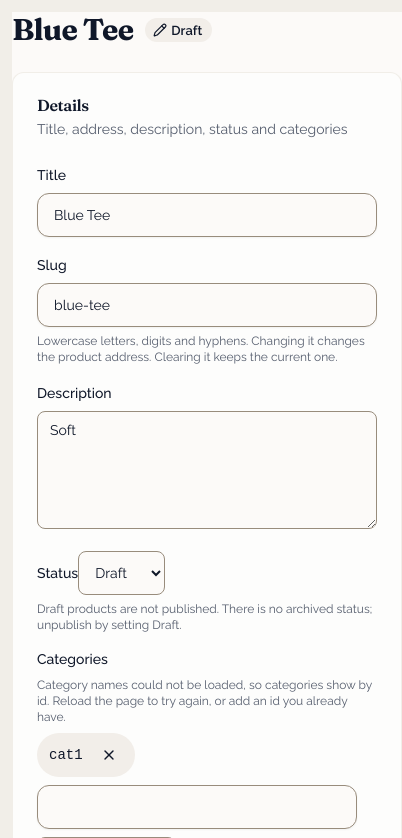
Scenario: ProductEditor save feedback › does not submit the product form when Enter is pressed in the category box
The image size is (402, 838).
Type "cat2" into the field named "Category id".
click(197, 807); type("cat2")  # box [37, 785, 357, 829]
Then press Enter
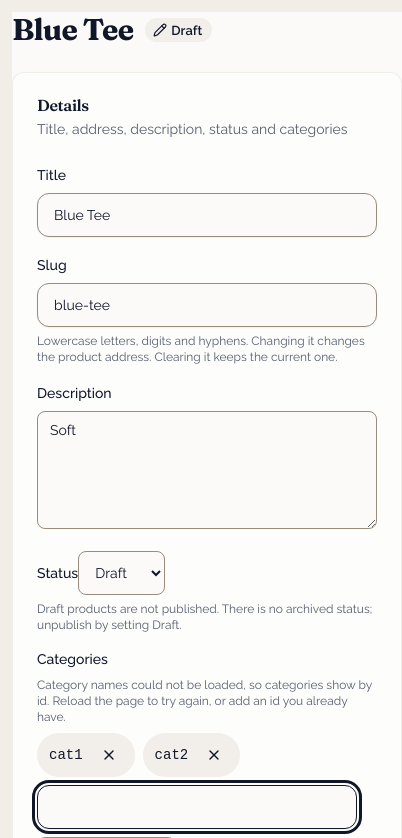
expect the text "cat2" is shown: met, box [155, 745, 188, 765]
